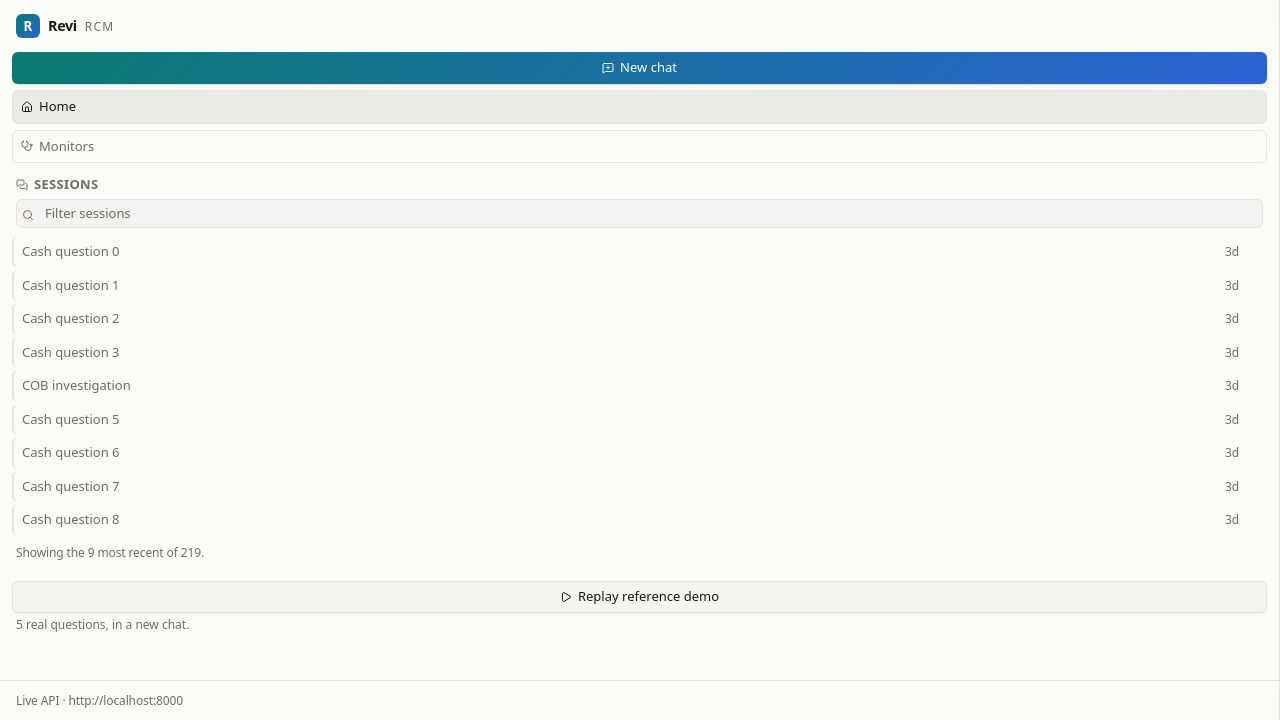
Test: SessionRail — finding a session in a long list › filters the loaded rows by title
The image size is (1280, 720).
expect the text "COB investigation" is shown: met, box x1=22 y1=376 x2=131 y2=396
In the search field: (640, 213) x1=16 y1=198 x2=1263 y2=228, type "cob"
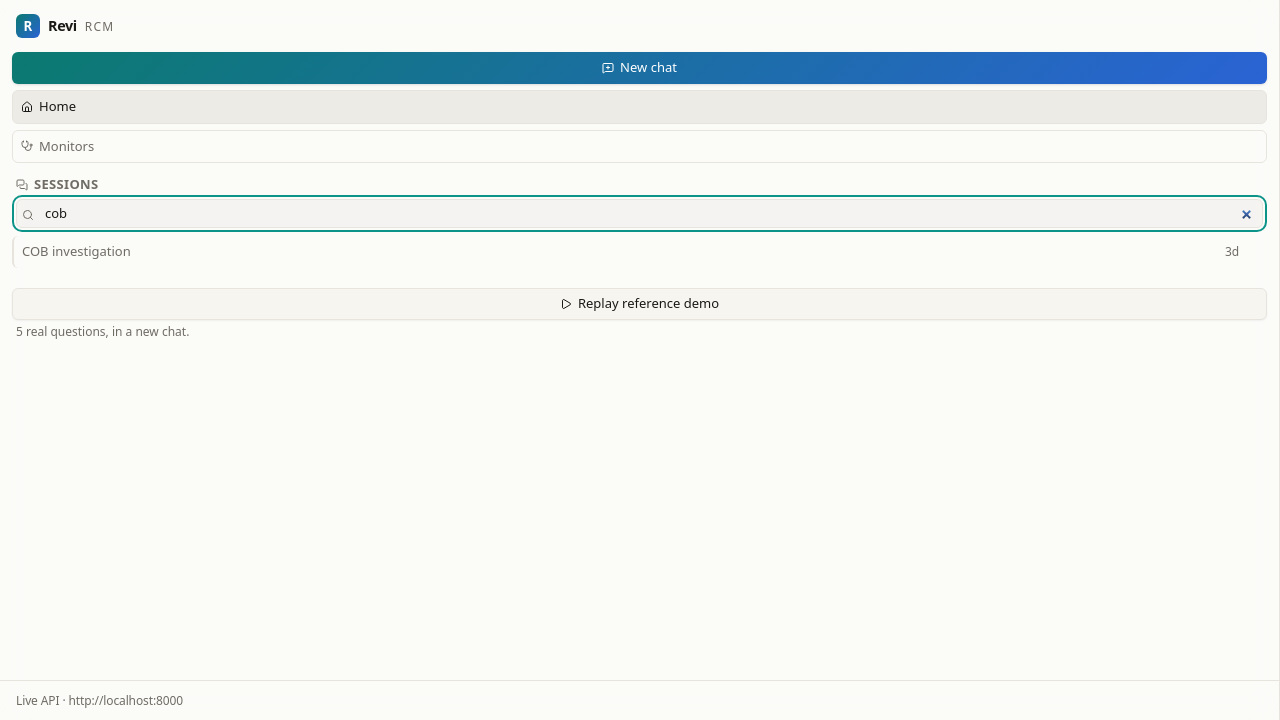
expect the text "COB investigation" is shown: met, box x1=22 y1=242 x2=131 y2=262
expect the button "Cash question 3" is gone: met
